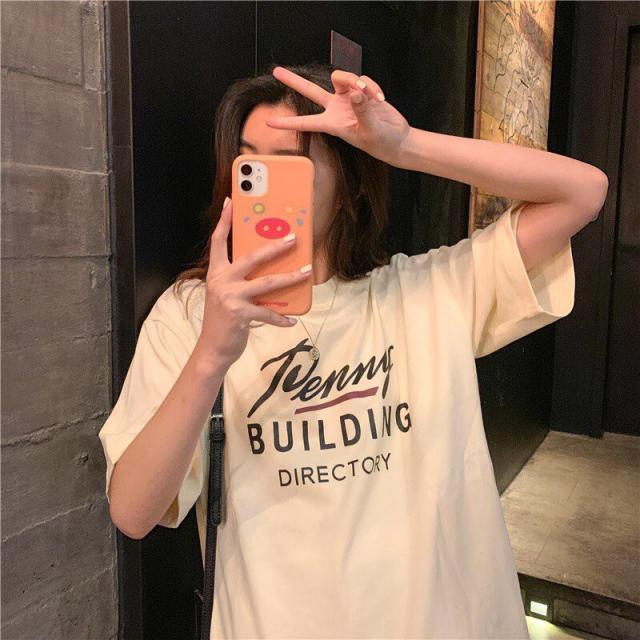Shirt: (90, 203, 576, 639)
